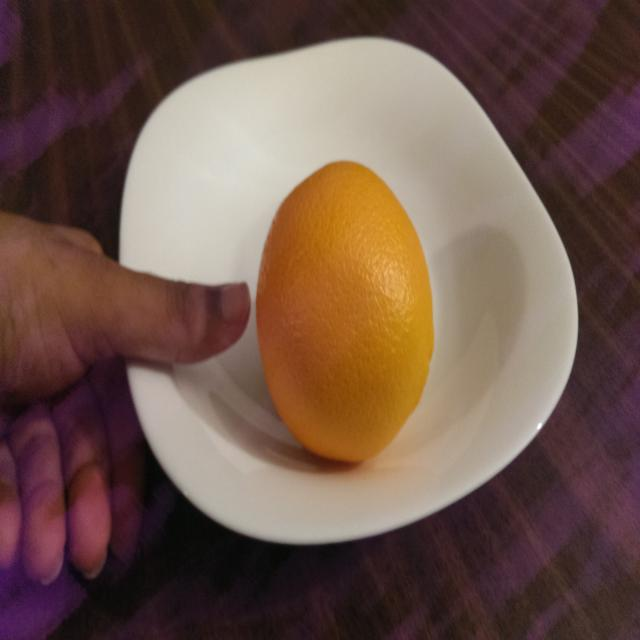orange: (255, 159, 435, 464)
